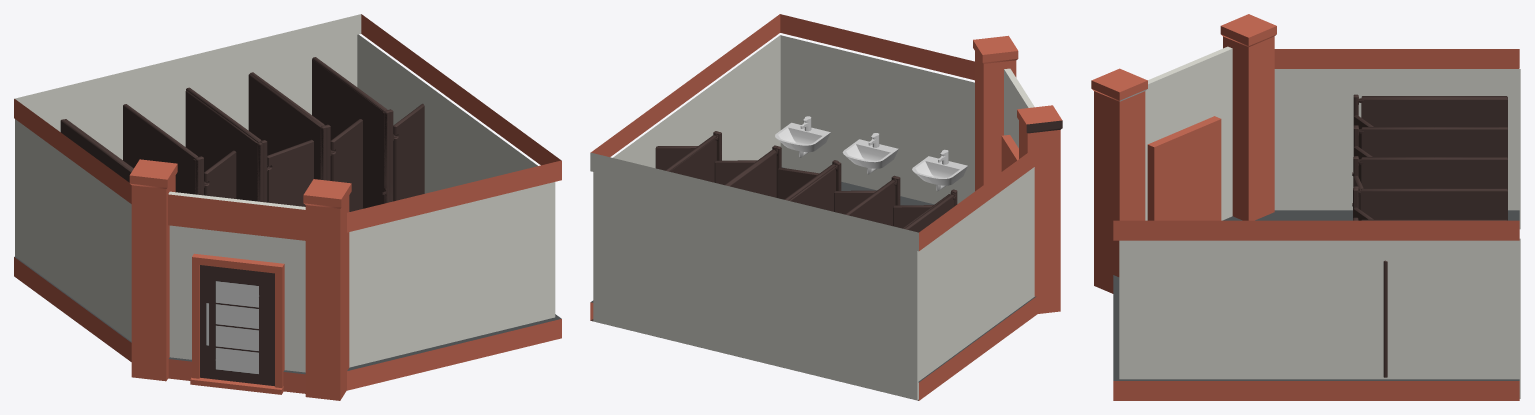
The model's file is Toilet.fbx.
The picture shows the model from 3 angles, left to right: view 1: azimuth 30°, elevation 25°; view 2: azimuth 150°, elevation 25°; view 3: azimuth 270°, elevation 25°; orthographic projection. The views are drawn at different scales.
Visible parts, largest first — view 1: Toilet; view 2: Toilet; view 3: Toilet.
Part boxes in pixels (x1,y1,x2,y2): Toilet: (14, 14, 561, 400); Toilet: (590, 14, 1062, 400); Toilet: (1091, 14, 1520, 400).
Bounding box in the file's own units: 1174 × 642 × 1177.
